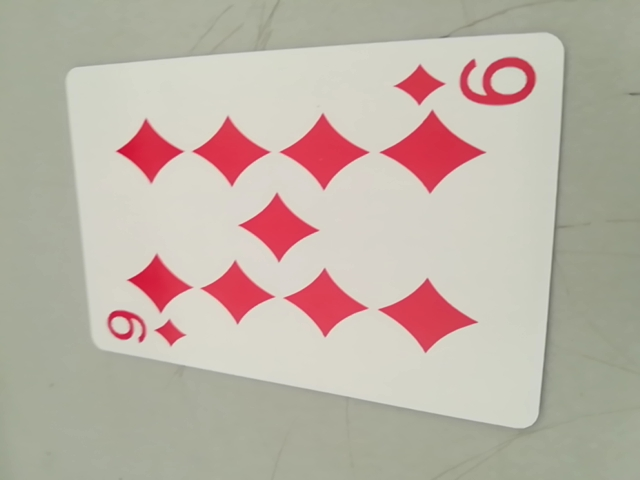fk 9: (397, 50, 542, 119), (98, 304, 191, 357)
